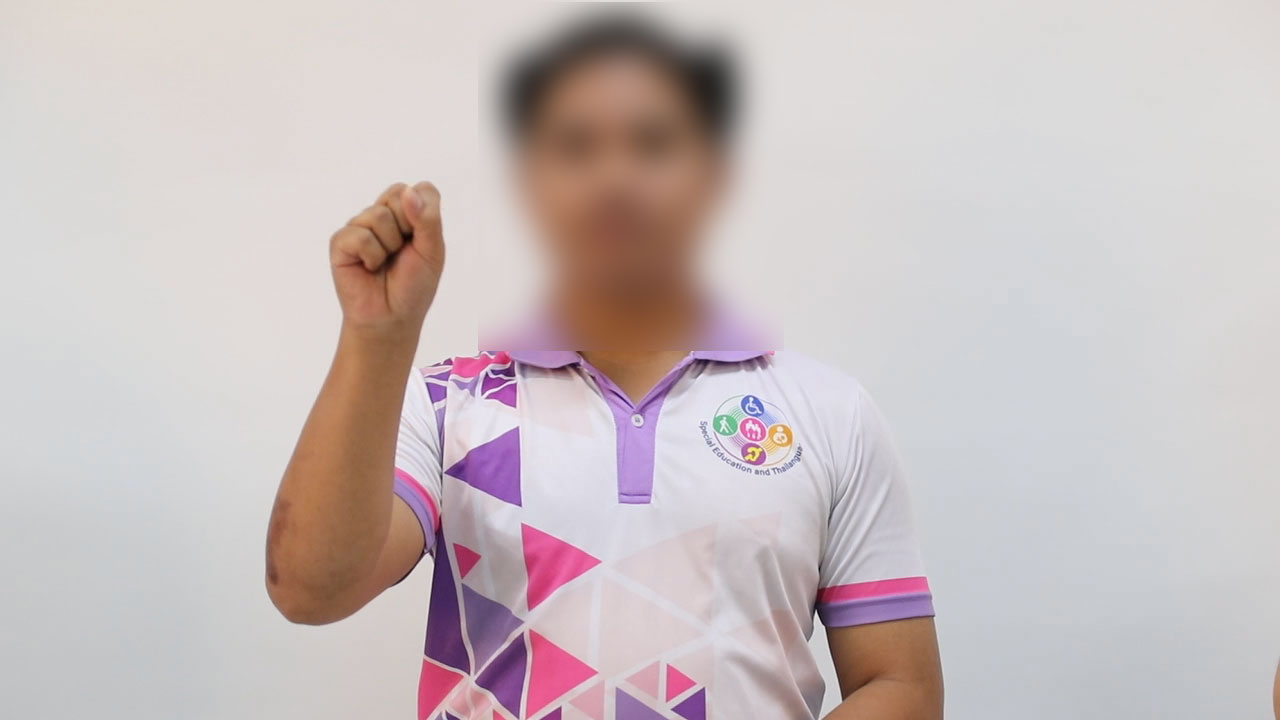sor: (315, 151, 460, 350)
